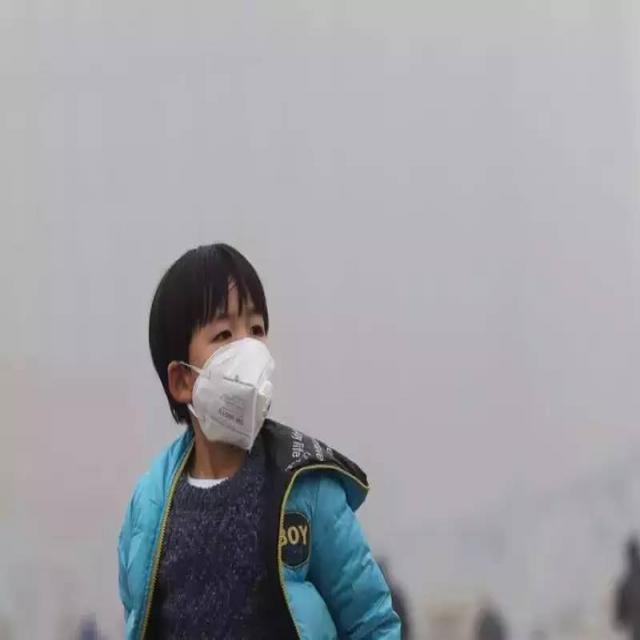mask: (188, 295, 270, 437)
